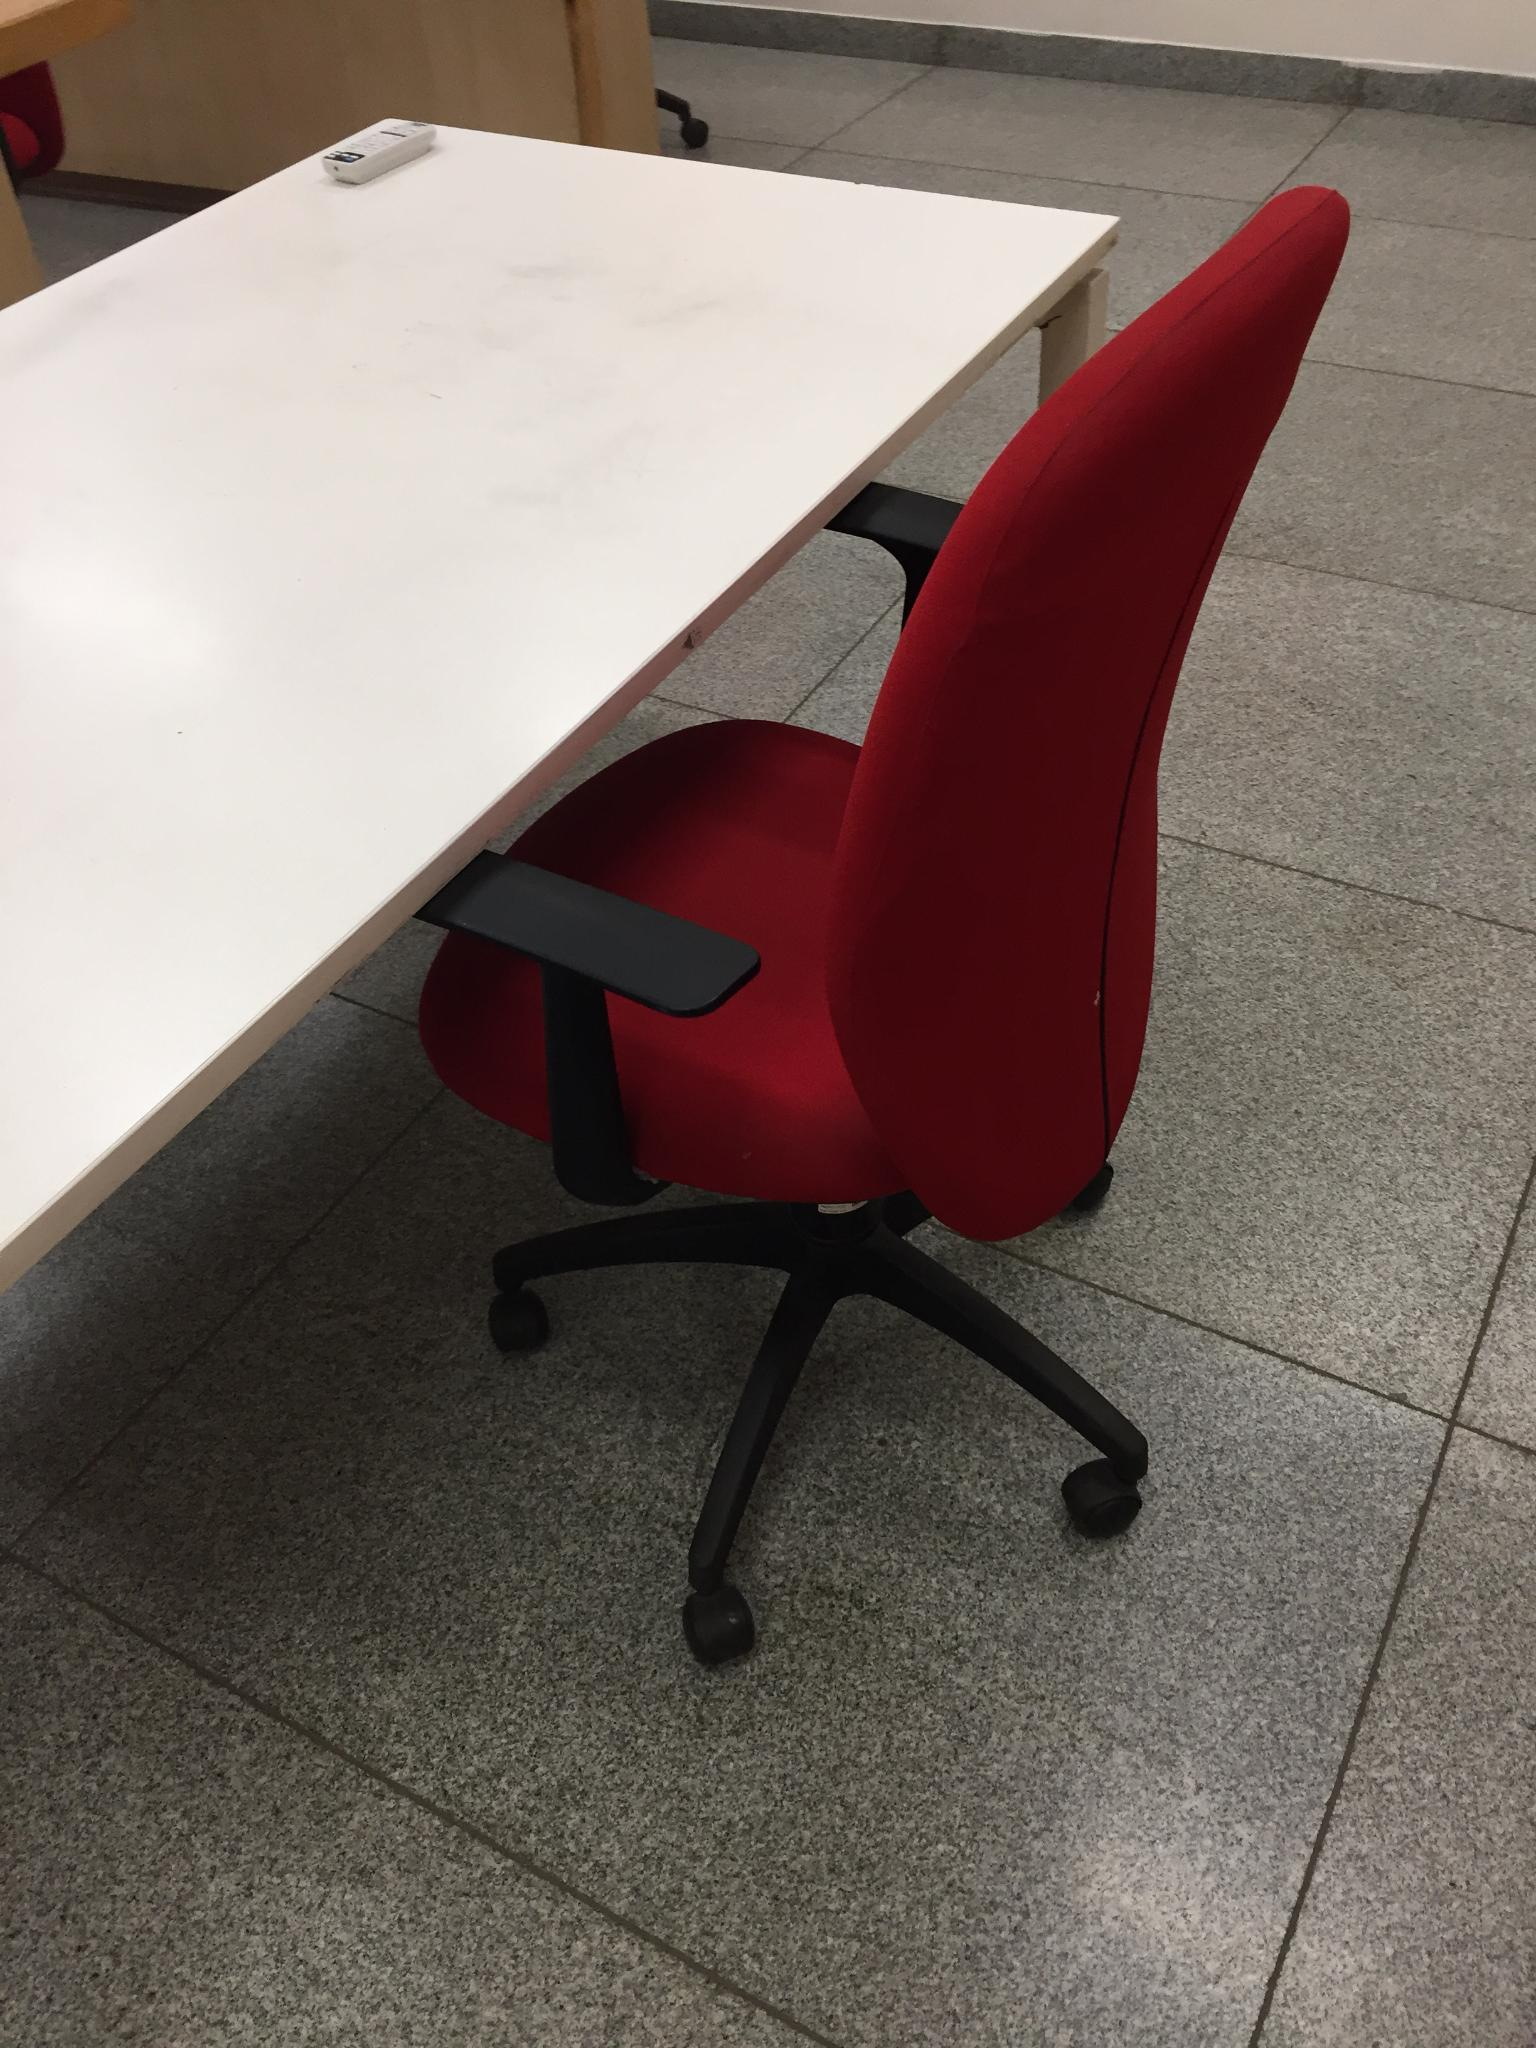chair: (411, 181, 1350, 1664)
